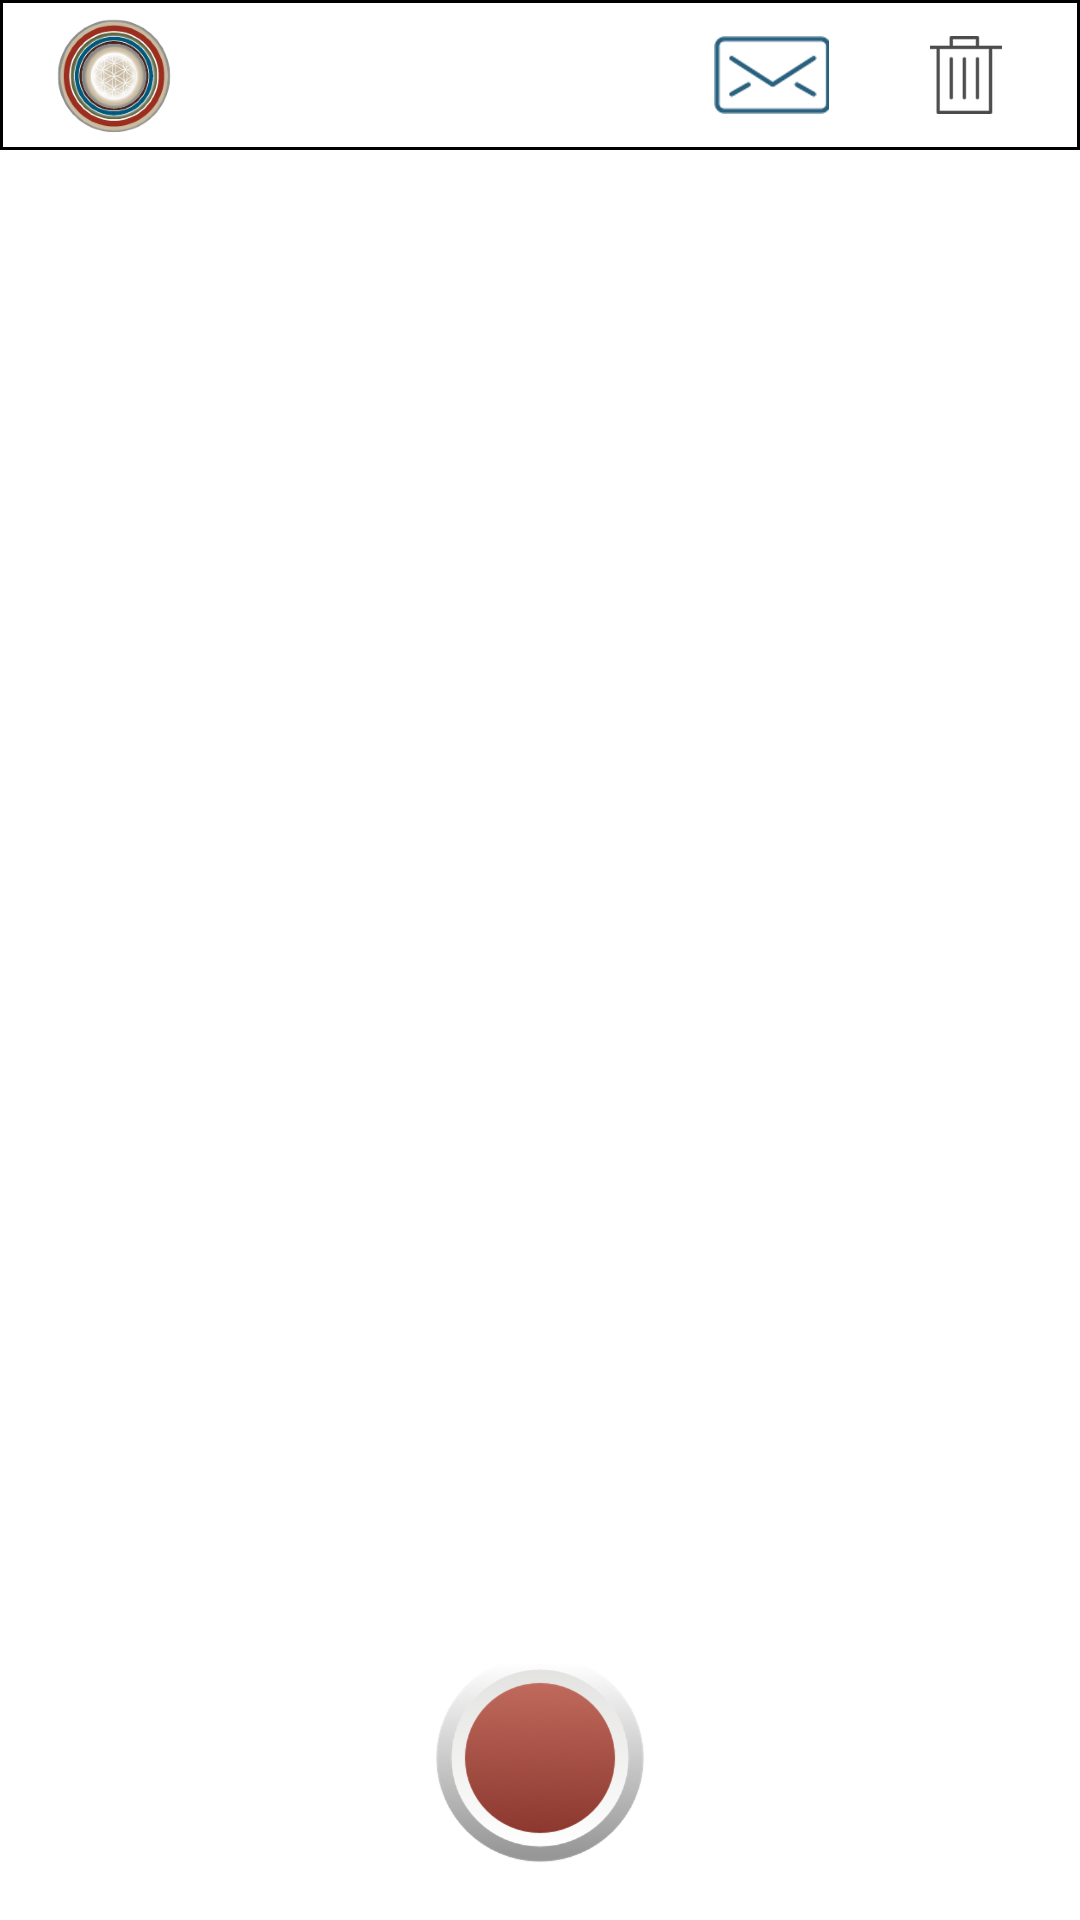

Locate icon controls on the screen. Image size 1080x1920, boxes as bbox(x1, y1, x2, y2).
delete: bbox(930, 36, 1002, 114)
envelope: bbox(714, 36, 829, 114)
